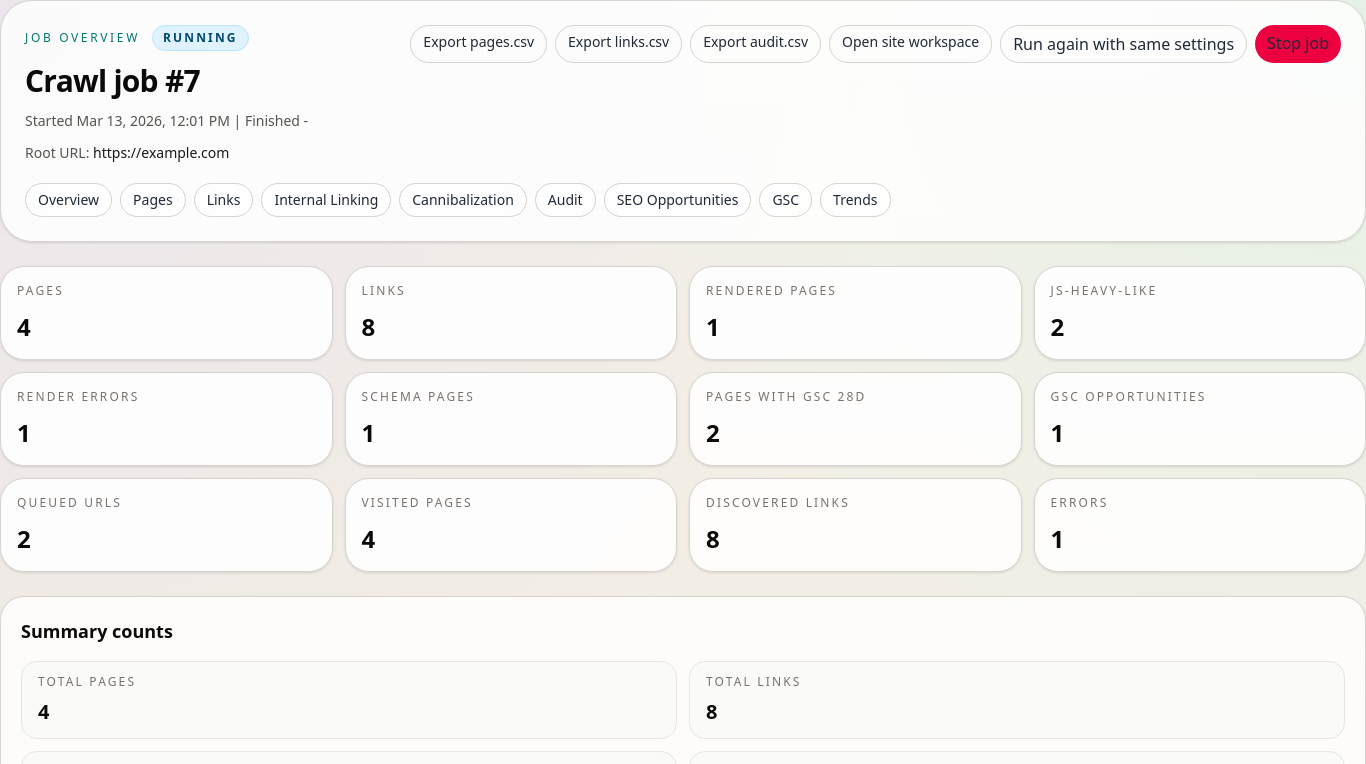
Test: JobDetailPage › stops a running job
The image size is (1366, 764).
What coordinates should you click on to do the following:
click the button "Stop job"
I would click on:
 (1298, 44)
Its box is left=1255, top=25, right=1341, bottom=63.
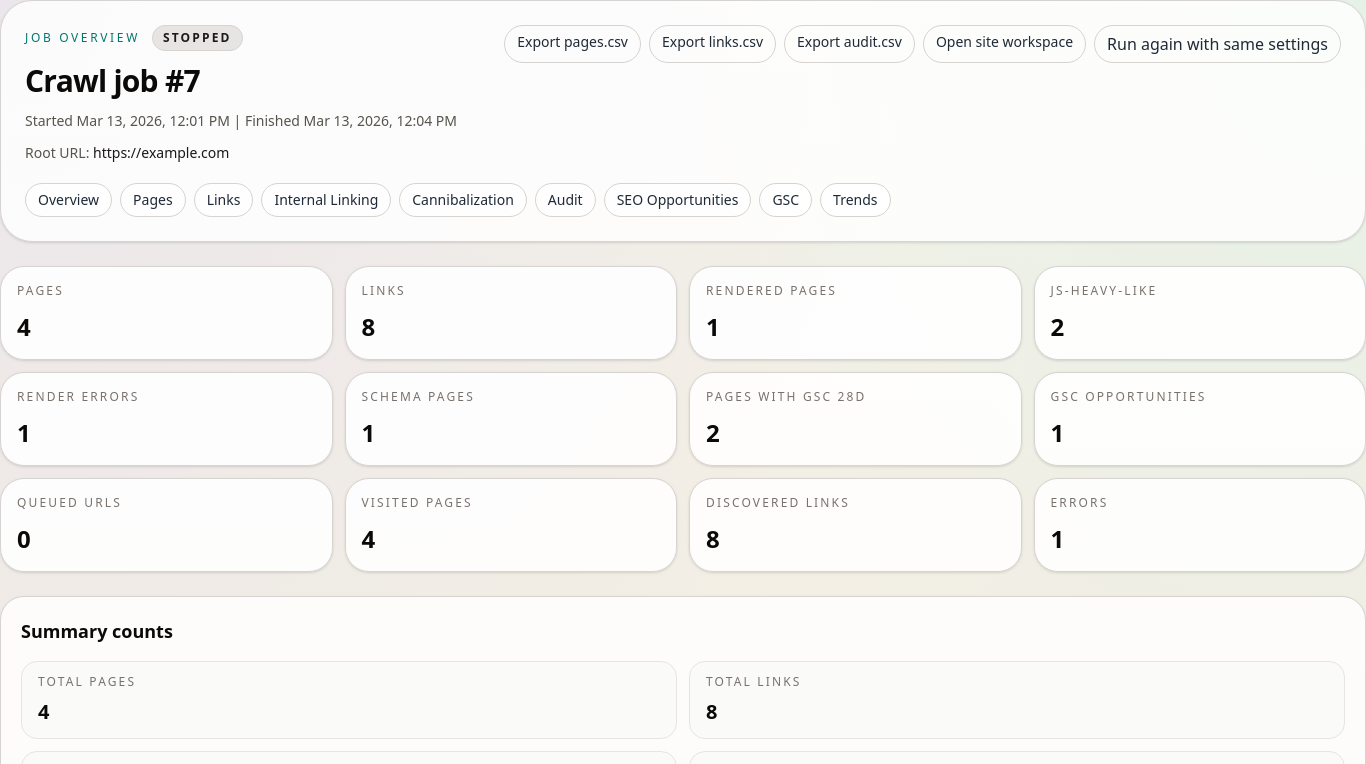
Expected: the text "Stopped" is shown, left=152, top=25, right=243, bottom=51
